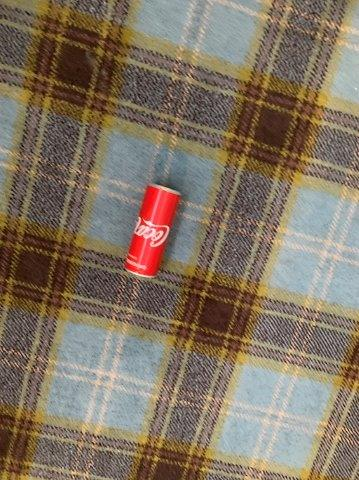kaleng: (124, 183, 181, 278)
